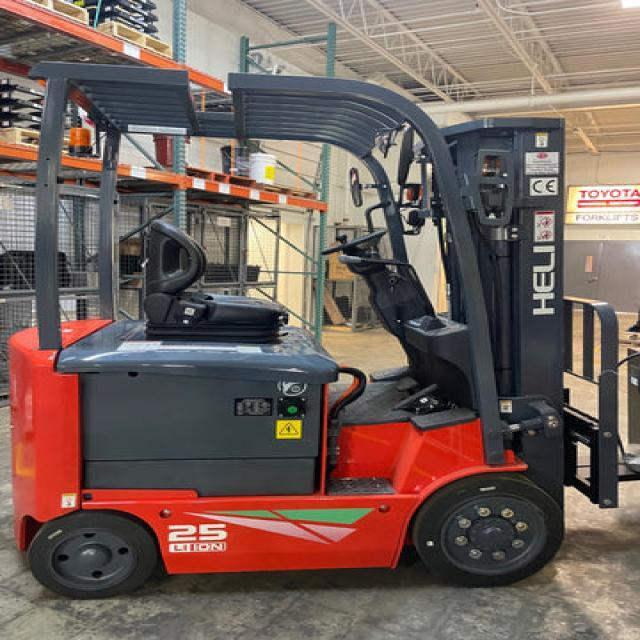forklift: (16, 44, 625, 621)
